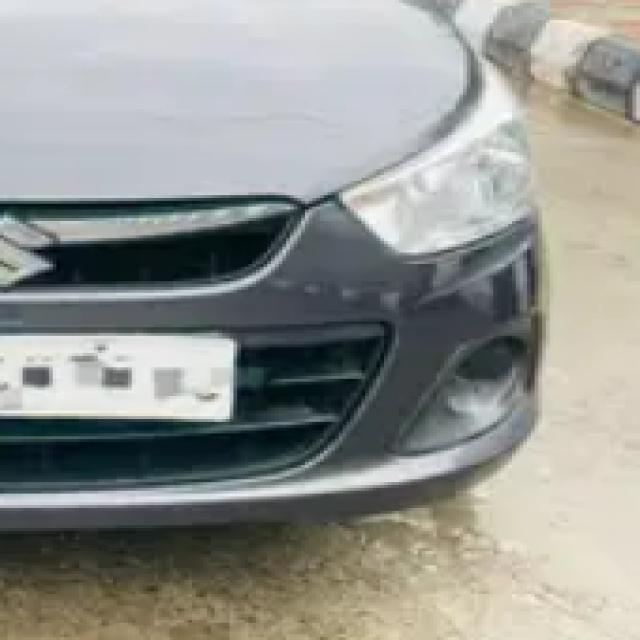car: (0, 0, 584, 534)
